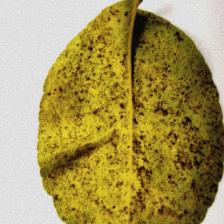canker: (75, 69, 205, 186)
